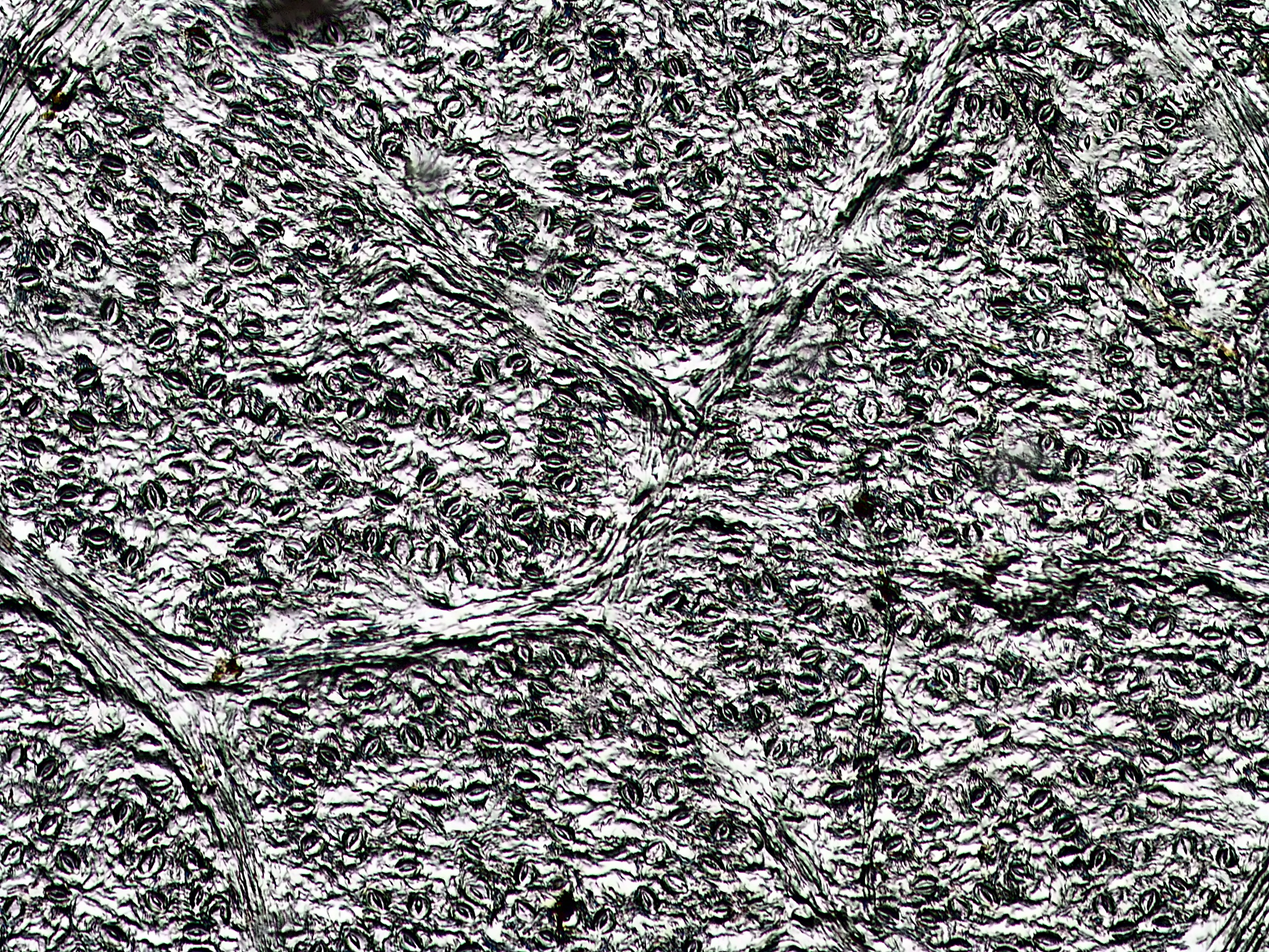stomata: (974, 881, 1005, 910), (861, 394, 887, 426), (41, 881, 77, 904), (1010, 655, 1033, 689), (588, 707, 611, 740), (124, 76, 153, 102), (196, 325, 225, 351), (341, 825, 367, 854), (640, 732, 670, 757), (390, 531, 413, 563), (473, 159, 505, 182), (282, 795, 317, 816), (311, 81, 340, 106), (138, 845, 161, 876), (1103, 345, 1134, 368), (148, 326, 175, 352), (406, 893, 432, 920), (1215, 841, 1240, 869), (1237, 622, 1265, 647), (99, 296, 123, 325), (141, 478, 161, 512), (344, 926, 370, 952), (842, 663, 868, 689), (1196, 655, 1222, 681), (612, 690, 639, 715), (1142, 749, 1169, 774), (497, 242, 529, 263), (915, 3, 943, 27), (881, 833, 909, 857), (399, 722, 422, 751), (97, 151, 127, 173), (449, 555, 471, 585), (638, 885, 660, 915), (980, 266, 1013, 286), (1146, 239, 1177, 260), (466, 878, 492, 903), (71, 240, 98, 264), (946, 894, 973, 918), (1235, 703, 1259, 730), (895, 435, 929, 454), (528, 713, 551, 741), (861, 313, 884, 341), (794, 669, 822, 692), (82, 528, 114, 548), (695, 853, 724, 875), (237, 320, 267, 341), (551, 389, 581, 410), (345, 679, 378, 698), (34, 238, 59, 263), (620, 780, 645, 805), (856, 22, 881, 47), (55, 850, 81, 874), (654, 777, 680, 801), (1097, 415, 1123, 439), (179, 199, 206, 222), (637, 140, 660, 167), (280, 694, 307, 717), (1123, 298, 1150, 321), (420, 788, 451, 808), (933, 174, 964, 194), (989, 299, 1020, 319), (130, 212, 158, 234), (1193, 220, 1215, 248), (967, 372, 995, 394), (1141, 507, 1163, 535), (1101, 623, 1129, 645), (800, 399, 836, 416), (726, 85, 747, 114), (1215, 480, 1244, 501), (804, 702, 833, 723), (824, 785, 853, 806), (538, 424, 570, 443), (728, 214, 748, 244), (682, 762, 712, 782), (785, 446, 815, 466), (1066, 445, 1086, 475), (925, 845, 955, 865), (94, 488, 120, 511), (476, 358, 499, 384), (662, 871, 688, 894), (644, 840, 667, 866), (14, 266, 41, 288), (3, 350, 25, 377), (68, 409, 95, 431), (395, 34, 422, 56), (460, 838, 487, 860), (1127, 454, 1149, 481), (478, 430, 509, 449), (423, 541, 442, 572), (265, 733, 296, 752), (1121, 190, 1152, 209), (1170, 416, 1201, 435), (121, 546, 142, 574), (464, 782, 492, 803), (1049, 218, 1070, 246), (284, 765, 313, 785), (1222, 509, 1251, 529), (1032, 931, 1061, 951), (300, 834, 324, 858), (221, 180, 246, 203), (486, 654, 511, 677), (399, 927, 422, 952), (894, 737, 917, 762), (1028, 786, 1051, 811), (127, 124, 153, 146), (72, 365, 98, 387), (210, 439, 236, 461), (548, 48, 574, 70), (366, 887, 388, 913), (854, 757, 880, 779), (1236, 660, 1258, 686), (271, 275, 301, 294), (715, 546, 745, 565), (231, 252, 258, 273), (429, 407, 450, 434), (319, 530, 340, 557), (324, 18, 345, 45), (1055, 0, 1082, 21), (1083, 260, 1110, 281), (250, 578, 281, 596), (792, 646, 823, 664), (45, 519, 69, 542), (35, 815, 58, 839), (750, 147, 774, 170), (1244, 412, 1268, 435), (895, 613, 919, 636), (135, 819, 164, 838), (560, 259, 589, 278), (696, 244, 725, 263), (438, 722, 457, 751), (394, 858, 423, 877), (1032, 256, 1061, 275), (993, 822, 1022, 841), (88, 187, 110, 212), (10, 476, 35, 498), (415, 469, 440, 491), (458, 517, 483, 539), (451, 900, 473, 925), (515, 897, 537, 922), (1054, 816, 1079, 838), (935, 662, 957, 687), (188, 32, 214, 53), (18, 437, 44, 458), (1117, 390, 1143, 411), (280, 179, 307, 199), (66, 128, 86, 155), (413, 59, 440, 79), (781, 28, 799, 58), (593, 907, 613, 934), (697, 606, 727, 624), (819, 743, 839, 770), (363, 525, 382, 553), (1210, 386, 1229, 414), (953, 406, 981, 425), (203, 283, 226, 306), (324, 372, 347, 395), (541, 275, 564, 298), (1035, 102, 1058, 125), (165, 367, 187, 391), (203, 373, 225, 397), (21, 394, 43, 418), (205, 567, 229, 589), (146, 888, 168, 912), (333, 65, 357, 87), (540, 453, 573, 469), (1225, 0, 1258, 16), (1058, 845, 1082, 867), (1072, 764, 1094, 788), (1153, 614, 1175, 638), (210, 140, 231, 165), (228, 608, 253, 629), (495, 192, 520, 213), (1148, 787, 1173, 808), (177, 924, 206, 942), (605, 122, 634, 140), (1062, 283, 1091, 301), (111, 801, 131, 827), (359, 101, 379, 127), (513, 29, 533, 55), (476, 728, 502, 748), (1039, 492, 1065, 512), (1241, 455, 1261, 481), (1090, 847, 1110, 873), (981, 673, 1001, 699), (512, 507, 539, 526), (634, 72, 653, 99), (970, 154, 997, 173), (770, 542, 797, 561), (332, 204, 355, 226), (176, 149, 198, 172), (441, 494, 464, 516), (817, 502, 839, 525), (1108, 802, 1131, 824), (56, 485, 84, 503), (170, 461, 194, 482), (356, 435, 384, 453), (274, 501, 298, 522), (284, 537, 308, 558), (551, 367, 579, 385), (803, 421, 831, 439), (1168, 487, 1192, 508), (129, 45, 154, 65), (209, 72, 234, 92), (100, 106, 125, 126), (135, 281, 160, 301), (239, 482, 259, 507), (384, 390, 409, 410), (1012, 224, 1032, 249), (932, 481, 952, 506), (1181, 733, 1206, 753), (495, 479, 526, 495), (529, 677, 555, 696), (776, 468, 802, 487), (794, 573, 820, 592), (1130, 838, 1149, 864), (1164, 289, 1193, 306), (551, 516, 569, 543), (396, 821, 423, 839), (980, 725, 1007, 743), (1152, 715, 1179, 733), (351, 360, 373, 382), (34, 758, 56, 780), (1070, 58, 1092, 80), (1104, 662, 1126, 684), (28, 660, 51, 681), (1030, 282, 1053, 303), (828, 344, 851, 365), (224, 395, 244, 419), (200, 502, 224, 522), (521, 561, 545, 581), (104, 924, 128, 944), (664, 55, 684, 79), (673, 264, 697, 284), (656, 315, 680, 335), (688, 213, 708, 237), (1220, 366, 1244, 386), (1199, 625, 1223, 645), (555, 116, 583, 133), (627, 228, 655, 245), (916, 812, 944, 829), (255, 218, 280, 237), (137, 247, 162, 266), (458, 391, 477, 416), (588, 514, 607, 539), (586, 182, 611, 201), (778, 79, 797, 104), (318, 745, 343, 764), (766, 736, 785, 761), (1098, 893, 1117, 918), (599, 290, 625, 308), (1151, 915, 1177, 933), (817, 125, 839, 146), (904, 209, 926, 230), (233, 100, 253, 123), (257, 153, 280, 173), (669, 93, 689, 116), (416, 694, 439, 714), (360, 737, 380, 760), (987, 96, 1007, 119), (1171, 348, 1194, 368), (726, 446, 749, 466), (1083, 501, 1106, 521), (1202, 527, 1225, 547), (860, 705, 883, 725), (708, 902, 735, 919), (856, 450, 883, 467), (270, 108, 294, 127), (293, 454, 317, 473), (634, 188, 658, 207), (641, 286, 660, 310), (515, 860, 534, 884), (669, 806, 693, 825), (1155, 111, 1179, 130), (889, 783, 913, 802), (937, 527, 961, 546), (57, 456, 82, 474), (373, 490, 398, 508), (591, 67, 616, 85), (1040, 431, 1058, 456), (965, 92, 982, 118), (904, 395, 930, 412), (797, 600, 823, 617), (754, 674, 780, 691), (848, 613, 865, 639), (914, 876, 935, 897), (2, 201, 22, 223), (348, 397, 368, 419), (1023, 37, 1045, 57), (820, 87, 843, 106), (788, 150, 811, 169), (955, 462, 974, 485), (740, 14, 764, 32), (553, 162, 577, 180), (951, 222, 975, 240), (40, 302, 65, 319), (6, 744, 23, 769), (1033, 325, 1050, 350), (135, 189, 156, 209), (179, 849, 199, 870), (444, 96, 465, 116), (1164, 668, 1185, 688), (1108, 593, 1128, 614), (559, 470, 578, 492), (1, 843, 20, 865), (712, 820, 734, 839), (1144, 147, 1166, 166), (231, 536, 257, 552), (904, 238, 930, 254), (508, 354, 531, 372), (552, 825, 575, 843), (0, 235, 17, 259), (264, 405, 281, 429), (420, 116, 437, 140), (971, 785, 988, 809), (732, 46, 752, 66), (613, 315, 633, 335), (1079, 128, 1095, 153), (731, 578, 751, 598), (1127, 687, 1152, 703), (549, 647, 570, 666), (839, 293, 860, 312), (964, 523, 983, 544), (480, 543, 497, 566), (807, 63, 830, 80), (1104, 110, 1121, 133), (1184, 460, 1207, 477), (1139, 887, 1154, 913), (570, 222, 594, 238), (706, 293, 730, 309), (759, 570, 775, 594), (319, 473, 339, 492), (462, 52, 482, 71), (449, 3, 469, 22), (825, 15, 845, 34), (1121, 86, 1141, 105), (192, 885, 206, 912), (689, 11, 710, 29), (985, 215, 1003, 236), (893, 332, 918, 347), (303, 393, 320, 415), (192, 614, 214, 631), (755, 625, 777, 642), (516, 770, 539, 786), (516, 644, 534, 664), (594, 29, 616, 45), (535, 930, 557, 946), (904, 497, 920, 519), (1099, 212, 1114, 235), (542, 87, 562, 104), (925, 627, 942, 647), (1122, 764, 1142, 781), (889, 360, 913, 374), (752, 703, 768, 724), (290, 145, 312, 160), (306, 243, 328, 258), (705, 167, 720, 189), (718, 633, 740, 648), (677, 140, 695, 158), (663, 590, 682, 607), (1168, 875, 1187, 892), (1178, 836, 1195, 855), (1233, 227, 1249, 247), (929, 355, 944, 376), (721, 704, 737, 723), (505, 801, 526, 815), (1030, 157, 1043, 179), (539, 208, 552, 229), (1059, 694, 1072, 715), (679, 937, 697, 952), (407, 0, 426, 13), (882, 530, 902, 542), (853, 0, 871, 12), (1257, 26, 1269, 44)
